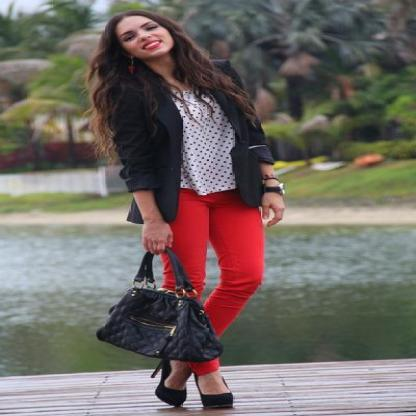bag: (97, 246, 223, 374)
jacket: (108, 66, 284, 224)
pants: (162, 188, 263, 376)
shirt: (172, 90, 234, 195)
shoe: (151, 362, 253, 410)
